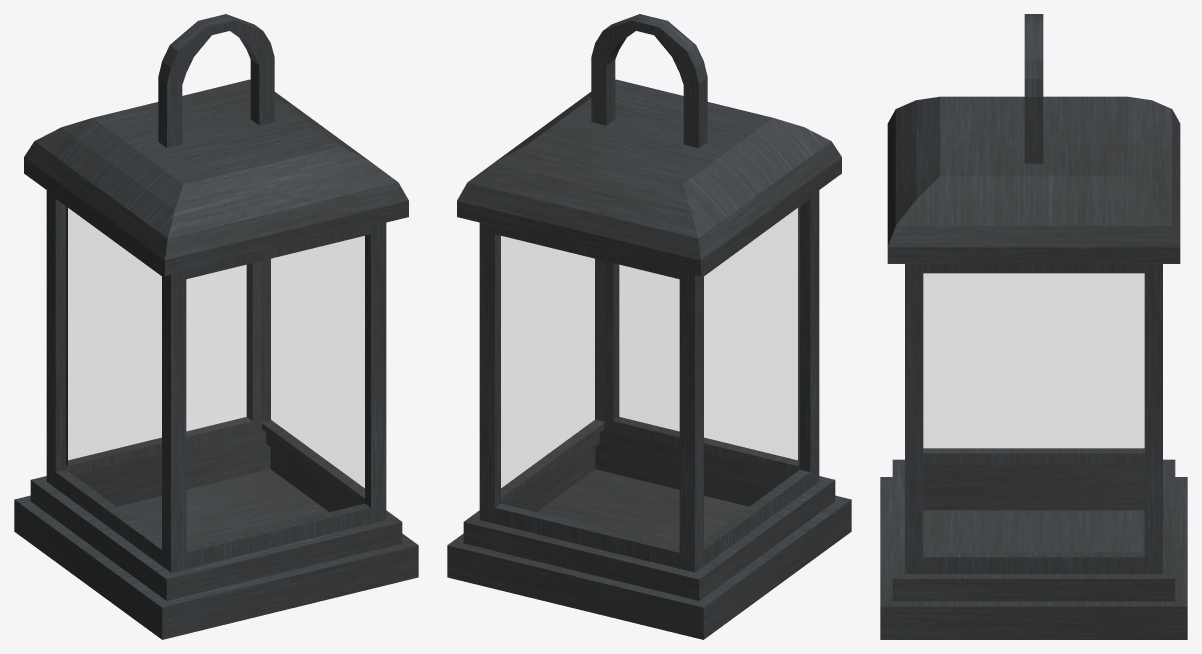
File: lantern.FBX
3 renders of one model, left to right at view 1: azimuth 30°, elevation 25°; view 2: azimuth 150°, elevation 25°; view 3: azimuth 270°, elevation 25°, orthographic. The views are drawn at different scales.
Parts seen in each view (by area): view 1: Box001; view 2: Box001; view 3: Box001.
Boxes of the visible parts, x1,y1,x2,y2 form: Box001: (14,14,418,639); Box001: (447,14,851,639); Box001: (880,14,1187,639).
Bounding box in the file's own units: 25 × 49.77 × 25.
Materials: 2 (2 with a texture image).
